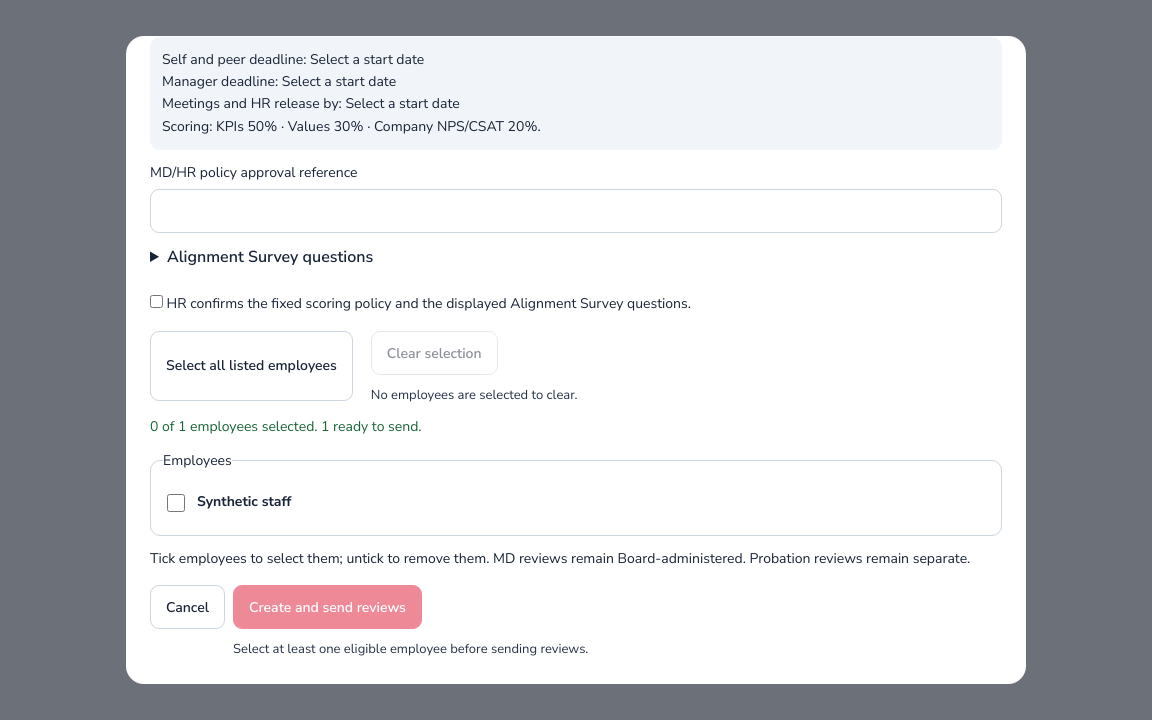
Test: a soft send failure retains the selected employees and prepared cycle without claiming success
(page scrolled)
Click the button "Select all listed employees".
click(251, 366)  # box [150, 331, 353, 401]
(page scrolled)
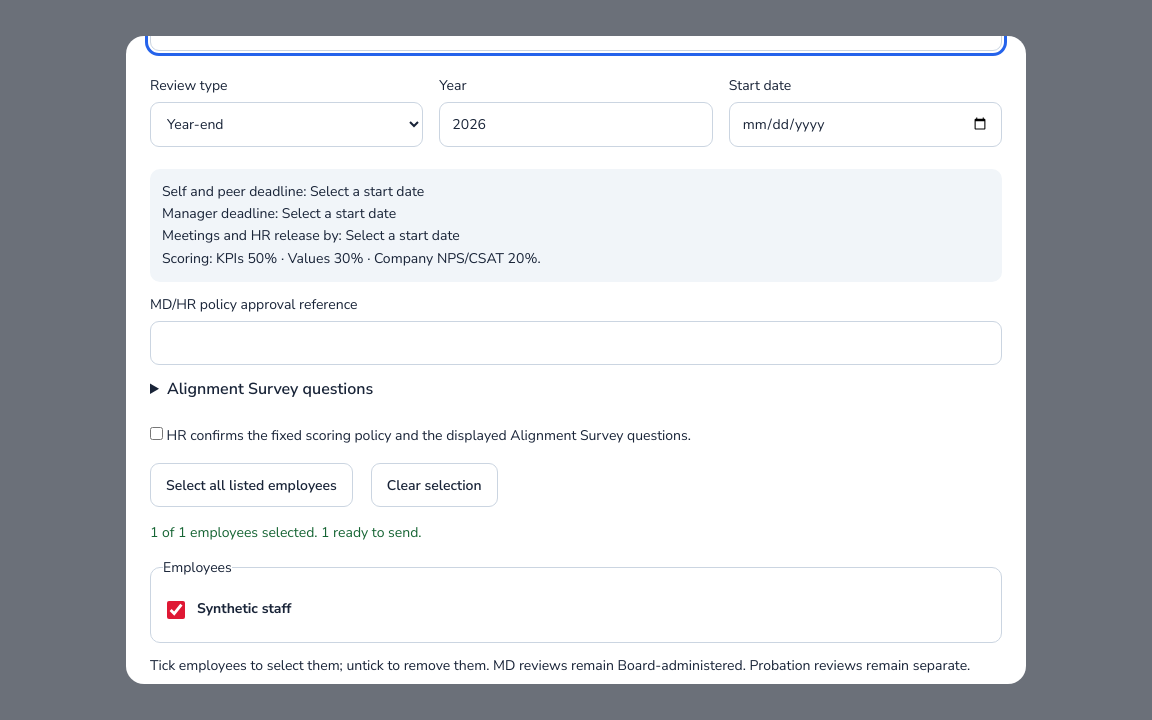
Submit the form
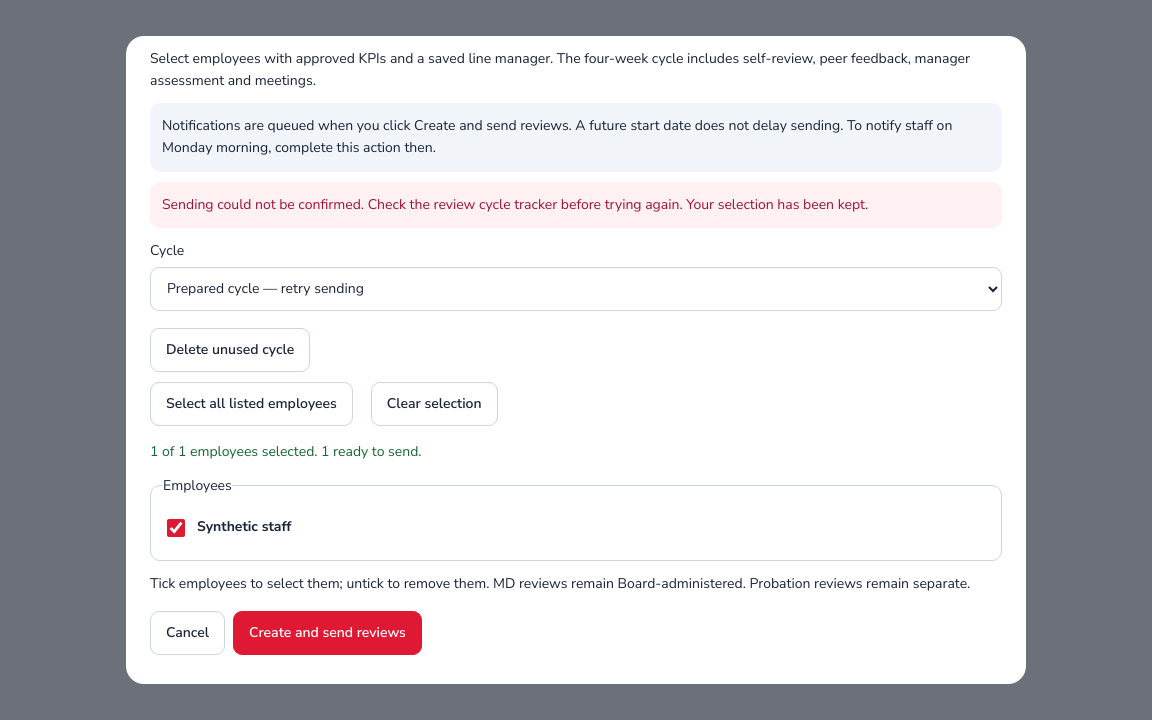
Expected: the text "Review requests confirmed" is not shown
Expected: the text "Sending could not be confirmed" is shown, [162, 195, 868, 214]
Expected: the number of checkboxes is 1, [167, 519, 185, 537]
Submit the form, box [150, 240, 1002, 660]
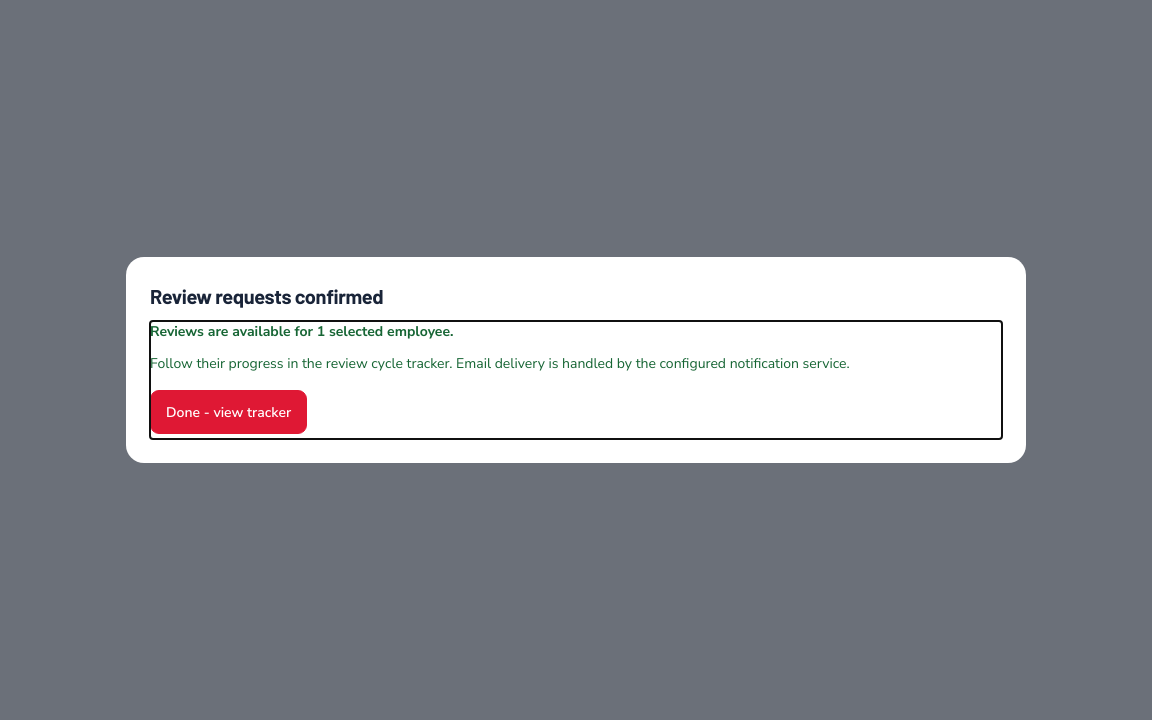
Expected: the text "Reviews are available for 1 selected employee." is shown, [150, 322, 454, 341]
